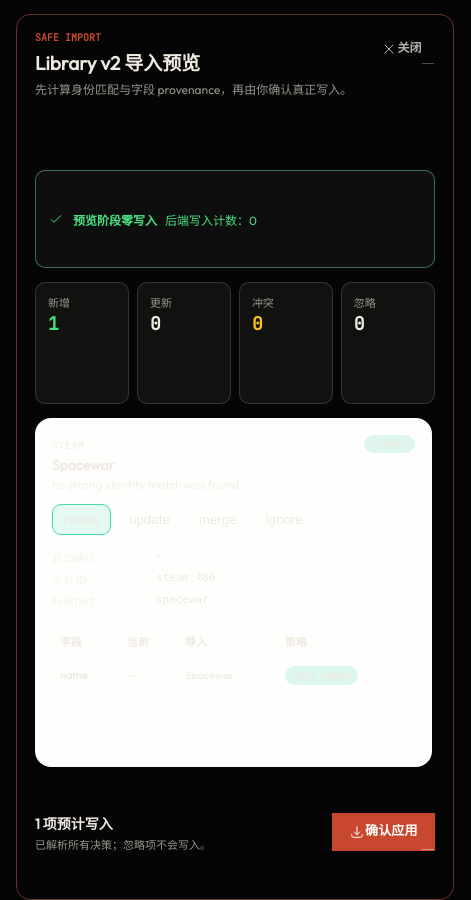
Test: LibraryV2ImportPanel › applies confirmed decisions and renders the apply result
Expected: the heading "Spacewar" is shown, [52,456,114,474]
Click the button "确认应用" at (383, 832), box [332,813,435,851]
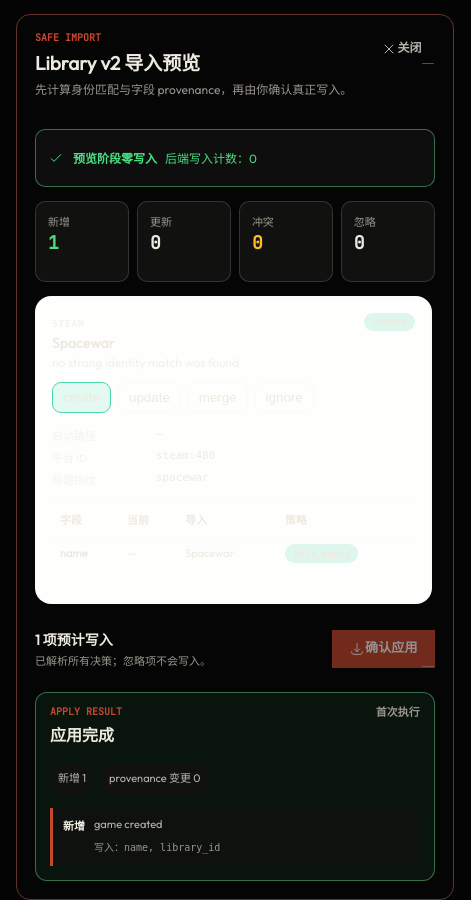
Expected: the heading "应用完成" is shown, [50,722,122,746]
Expected: the text "新增 1" is shown, [50,764,94,796]
Expected: the text "写入：name, library_id" is shown, [94,842,220,853]
